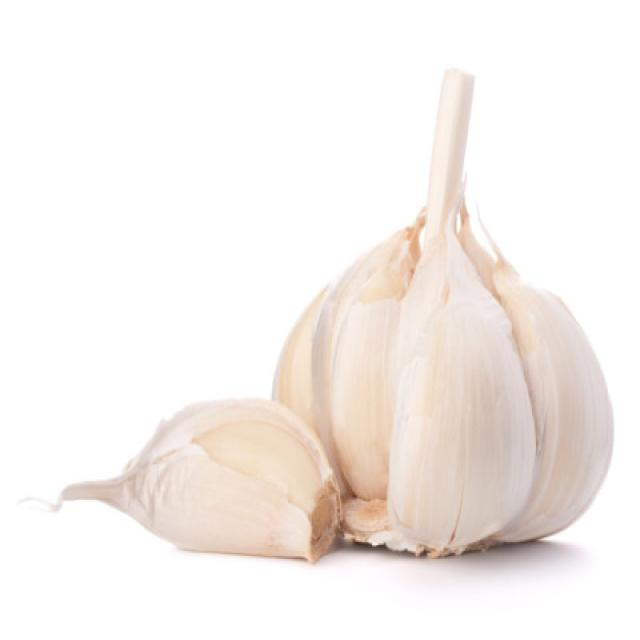garlic: (254, 225, 624, 572)
